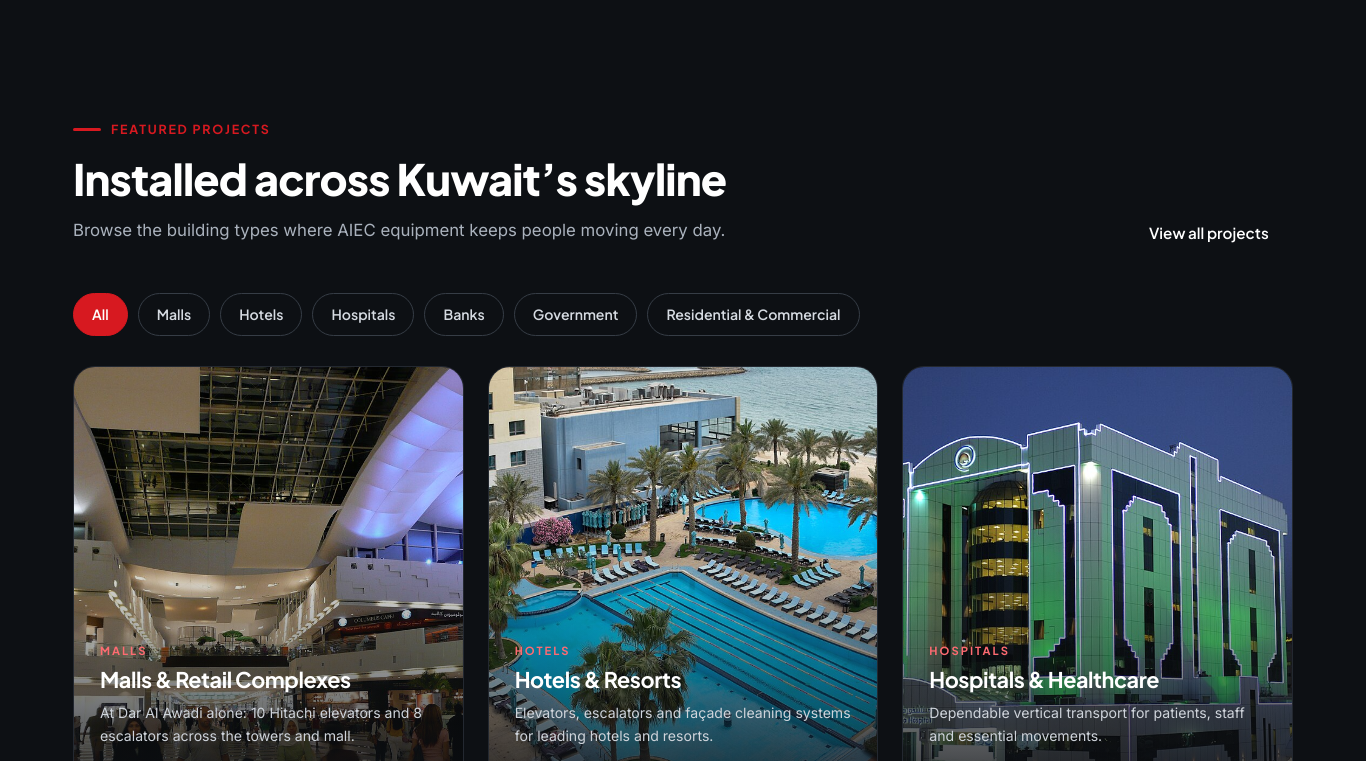
Test: Projects › chip Banks shows only the matching card
Step 1. Click the tab "Banks" → {"x": 464, "y": 315}, box [424,293,504,336]
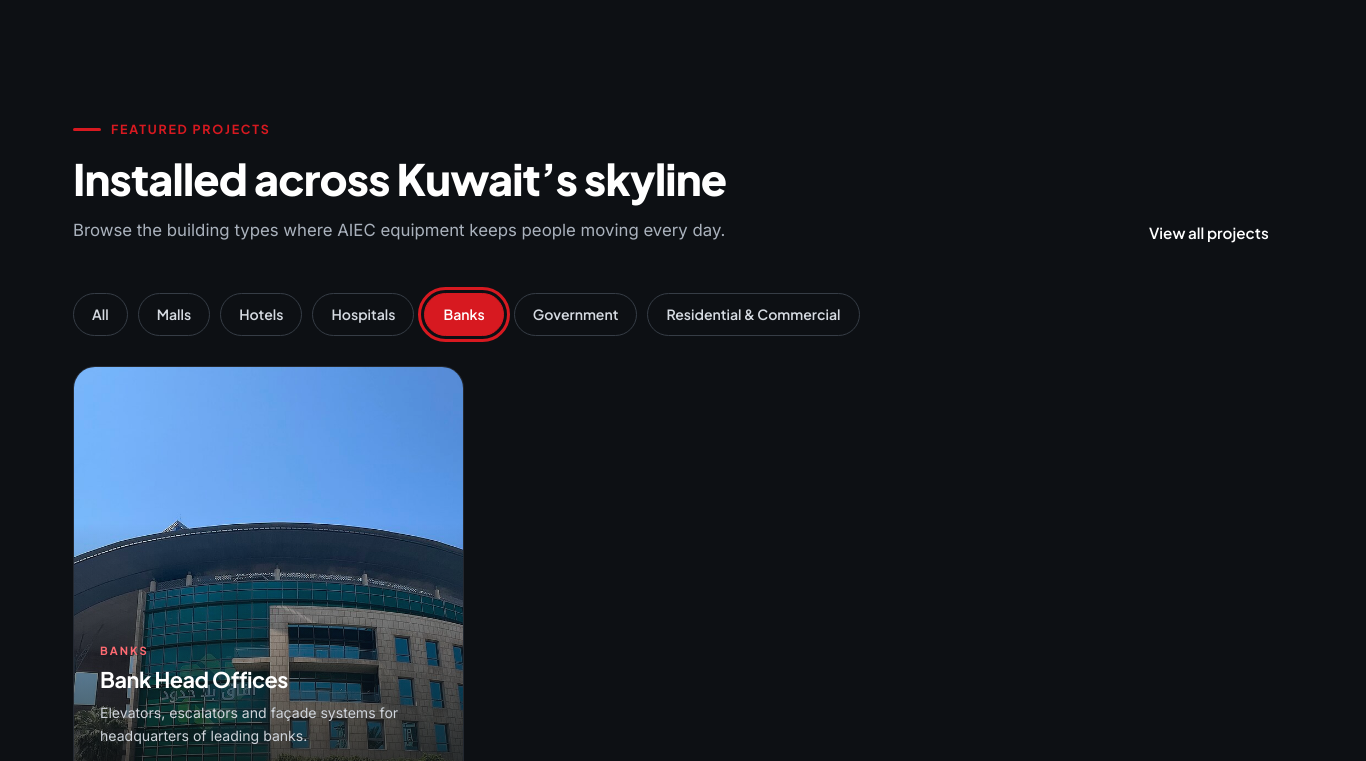
Now the tab "Banks" is selected, box [424,293,504,336]
Now the tab "Banks" has class "on", box [424,293,504,336]
Now the tab "All" is not selected, box [73,293,128,336]
